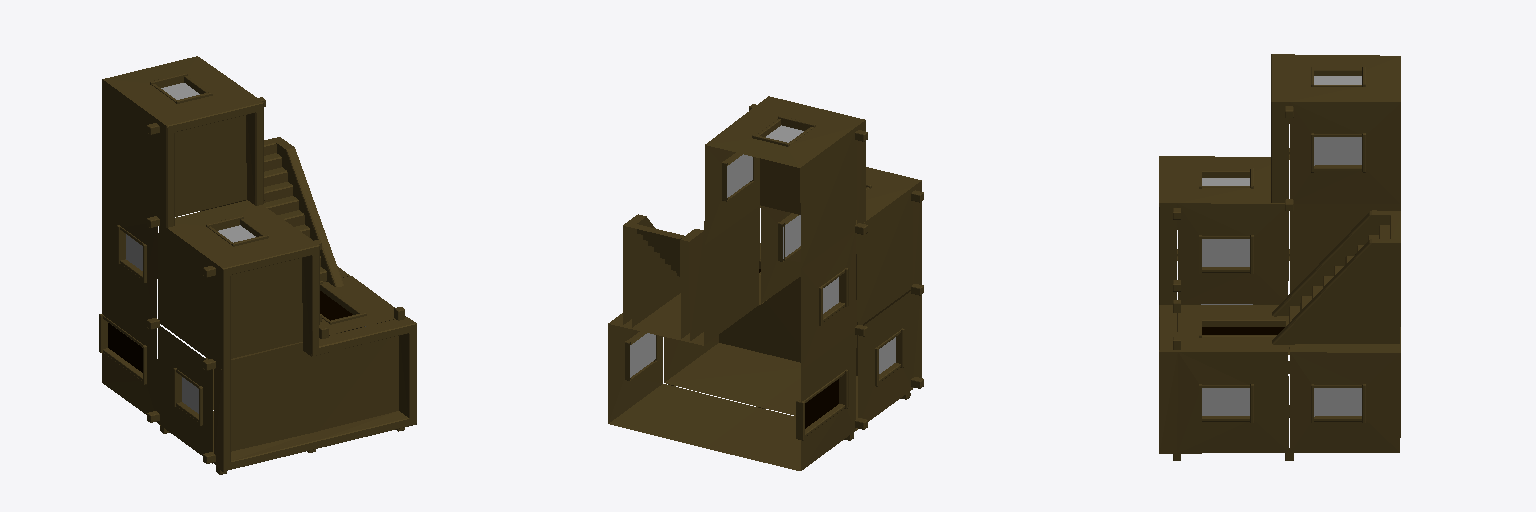
The model's file is maison2.obj.
3 renders of one model, left to right at view 1: azimuth 30°, elevation 25°; view 2: azimuth 150°, elevation 25°; view 3: azimuth 270°, elevation 25°, orthographic.
Visible parts, largest first — view 1: pCube44_Untitled; view 2: pCube44_Untitled; view 3: pCube44_Untitled.
Boxes of the visible parts, <box> form: pCube44_Untitled: <box>99,56,416,474</box>; pCube44_Untitled: <box>608,96,923,470</box>; pCube44_Untitled: <box>1159,54,1400,460</box>.
Size of the model in its own units: 3.26 by 4.8 by 3.33.